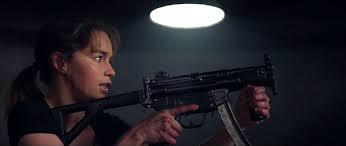rifle: (46, 52, 284, 146)
